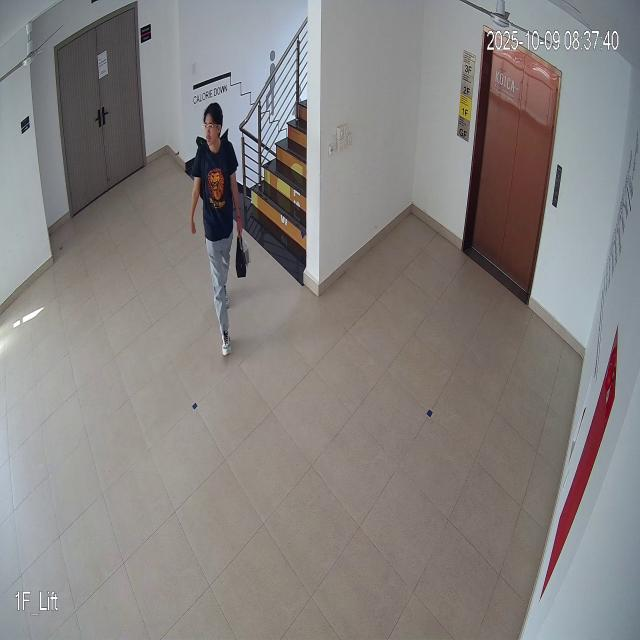face: (202, 100, 224, 150)
